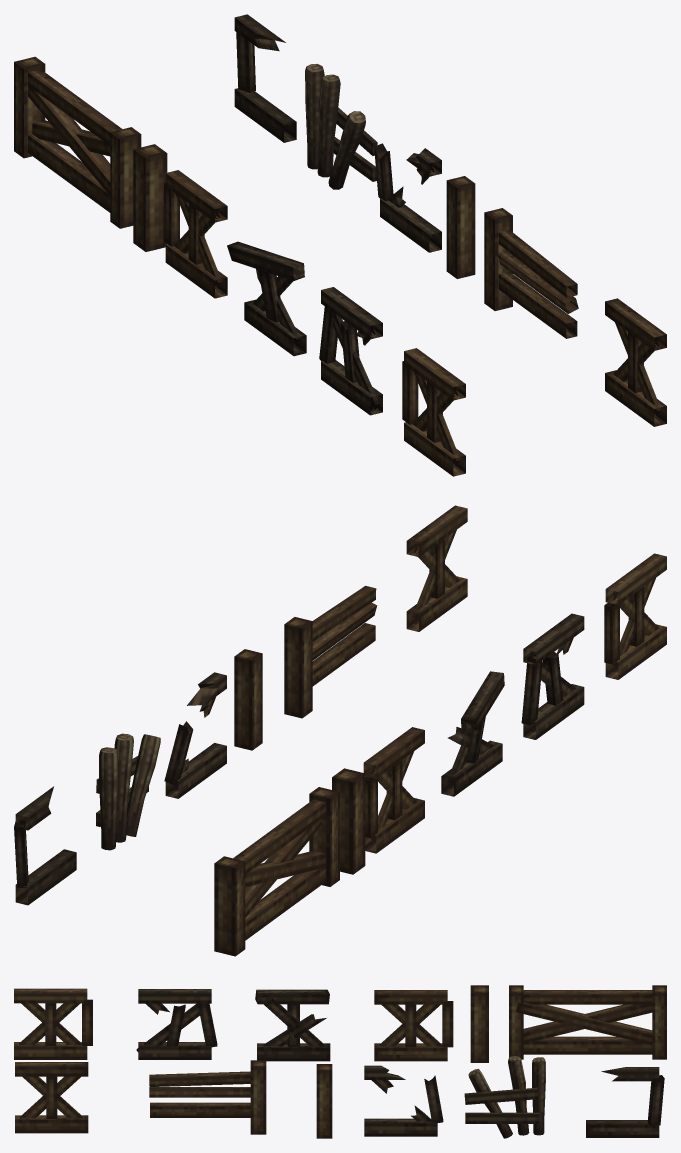
File: EnvMdrMD_Wilderness_A_Fence_A_End_A.FBX
3 renders of one model, top to bottom at view 1: azimuth 30°, elevation 25°; view 2: azimuth 150°, elevation 25°; view 3: azimuth 270°, elevation 25°, orthographic. The views are drawn at different scales.
Parts seen in each view (by area): view 1: EnvMdrMD_Wilderness_A_Fence_A_Gate, EnvMdrMD_Wilderness_A_Fence_A_Gate_Loop, EnvMdrMD_Wilderness_A_Fence_A_Loop_A_Broken_A, EnvMdrMD_Wilderness_A_Fence_A_Loop_A, EnvMdrMD_Wilderness_A_Fence_A_End_A, EnvMdrMD_Wilderness_A_Fence_A_Loop_A_Broken_C, EnvMdrMD_Wilderness_A_Fence_A_Start_A, EnvMdrMD_Wilderness_A_Fence_A_Start_A_Broken_A, EnvMdrMD_Wilderness_A_Fence_A_End_A_Broken_A, EnvMdrMD_Wilderness_A_Fence_A_Loop_A_Broken_B, EnvMdrMD_Wilderness_A_Fence_A_Post_A, EnvMdrMD_Wilderness_A_Fence_A_Gate_Post; view 2: EnvMdrMD_Wilderness_A_Fence_A_Gate, EnvMdrMD_Wilderness_A_Fence_A_Gate_Loop, EnvMdrMD_Wilderness_A_Fence_A_Loop_A, EnvMdrMD_Wilderness_A_Fence_A_Loop_A_Broken_A, EnvMdrMD_Wilderness_A_Fence_A_End_A, EnvMdrMD_Wilderness_A_Fence_A_Loop_A_Broken_C, EnvMdrMD_Wilderness_A_Fence_A_Start_A, EnvMdrMD_Wilderness_A_Fence_A_Start_A_Broken_A, EnvMdrMD_Wilderness_A_Fence_A_Loop_A_Broken_B, EnvMdrMD_Wilderness_A_Fence_A_End_A_Broken_A, EnvMdrMD_Wilderness_A_Fence_A_Gate_Post, EnvMdrMD_Wilderness_A_Fence_A_Post_A; view 3: EnvMdrMD_Wilderness_A_Fence_A_Gate, EnvMdrMD_Wilderness_A_Fence_A_Gate_Loop, EnvMdrMD_Wilderness_A_Fence_A_End_A, EnvMdrMD_Wilderness_A_Fence_A_Loop_A, EnvMdrMD_Wilderness_A_Fence_A_Loop_A_Broken_A, EnvMdrMD_Wilderness_A_Fence_A_Loop_A_Broken_C, EnvMdrMD_Wilderness_A_Fence_A_Start_A, EnvMdrMD_Wilderness_A_Fence_A_Start_A_Broken_A, EnvMdrMD_Wilderness_A_Fence_A_Loop_A_Broken_B, EnvMdrMD_Wilderness_A_Fence_A_End_A_Broken_A, EnvMdrMD_Wilderness_A_Fence_A_Post_A, EnvMdrMD_Wilderness_A_Fence_A_Gate_Post.
Part boxes in pixels (x1,y1,x2,y2): EnvMdrMD_Wilderness_A_Fence_A_Gate: (14,56,141,228); EnvMdrMD_Wilderness_A_Fence_A_Gate_Loop: (484,208,578,338); EnvMdrMD_Wilderness_A_Fence_A_Loop_A_Broken_A: (305,64,377,189); EnvMdrMD_Wilderness_A_Fence_A_Loop_A: (402,348,465,476); EnvMdrMD_Wilderness_A_Fence_A_End_A: (164,170,227,298); EnvMdrMD_Wilderness_A_Fence_A_Loop_A_Broken_C: (319,287,382,415); EnvMdrMD_Wilderness_A_Fence_A_Start_A: (605,298,666,426); EnvMdrMD_Wilderness_A_Fence_A_Start_A_Broken_A: (227,241,306,356); EnvMdrMD_Wilderness_A_Fence_A_End_A_Broken_A: (234,14,296,142); EnvMdrMD_Wilderness_A_Fence_A_Loop_A_Broken_B: (374,143,441,252); EnvMdrMD_Wilderness_A_Fence_A_Post_A: (133,144,167,251); EnvMdrMD_Wilderness_A_Fence_A_Gate_Post: (446,176,475,278); EnvMdrMD_Wilderness_A_Fence_A_Gate: (214,787,339,956); EnvMdrMD_Wilderness_A_Fence_A_Gate_Loop: (284,585,377,718); EnvMdrMD_Wilderness_A_Fence_A_Loop_A: (604,553,666,679); EnvMdrMD_Wilderness_A_Fence_A_Loop_A_Broken_A: (96,733,160,850); EnvMdrMD_Wilderness_A_Fence_A_End_A: (363,727,424,853); EnvMdrMD_Wilderness_A_Fence_A_Loop_A_Broken_C: (521,613,584,739); EnvMdrMD_Wilderness_A_Fence_A_Start_A: (406,505,467,631); EnvMdrMD_Wilderness_A_Fence_A_Start_A_Broken_A: (441,671,504,796); EnvMdrMD_Wilderness_A_Fence_A_Loop_A_Broken_B: (164,672,226,798); EnvMdrMD_Wilderness_A_Fence_A_End_A_Broken_A: (14,786,76,905); EnvMdrMD_Wilderness_A_Fence_A_Gate_Post: (234,649,262,750); EnvMdrMD_Wilderness_A_Fence_A_Post_A: (332,768,365,874); EnvMdrMD_Wilderness_A_Fence_A_Gate: (509,985,666,1059); EnvMdrMD_Wilderness_A_Fence_A_Gate_Loop: (149,1060,266,1134); EnvMdrMD_Wilderness_A_Fence_A_End_A: (374,990,453,1061); EnvMdrMD_Wilderness_A_Fence_A_Loop_A: (14,988,92,1059); EnvMdrMD_Wilderness_A_Fence_A_Loop_A_Broken_A: (464,1056,545,1138); EnvMdrMD_Wilderness_A_Fence_A_Loop_A_Broken_C: (136,989,217,1059); EnvMdrMD_Wilderness_A_Fence_A_Start_A: (15,1062,88,1133); EnvMdrMD_Wilderness_A_Fence_A_Start_A_Broken_A: (255,989,330,1061); EnvMdrMD_Wilderness_A_Fence_A_Loop_A_Broken_B: (364,1065,443,1136); EnvMdrMD_Wilderness_A_Fence_A_End_A_Broken_A: (586,1067,664,1137); EnvMdrMD_Wilderness_A_Fence_A_Post_A: (470,985,488,1062); EnvMdrMD_Wilderness_A_Fence_A_Gate_Post: (316,1064,332,1138).
Bounding box in the file's own units: 288 × 118 × 889.
Materials: 2 (2 with a texture image).
